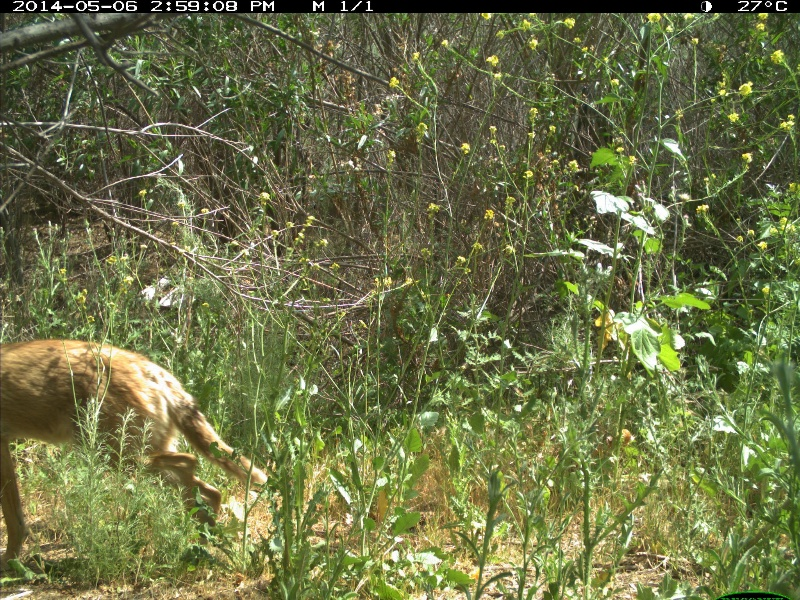coyote: (1, 324, 273, 574)
